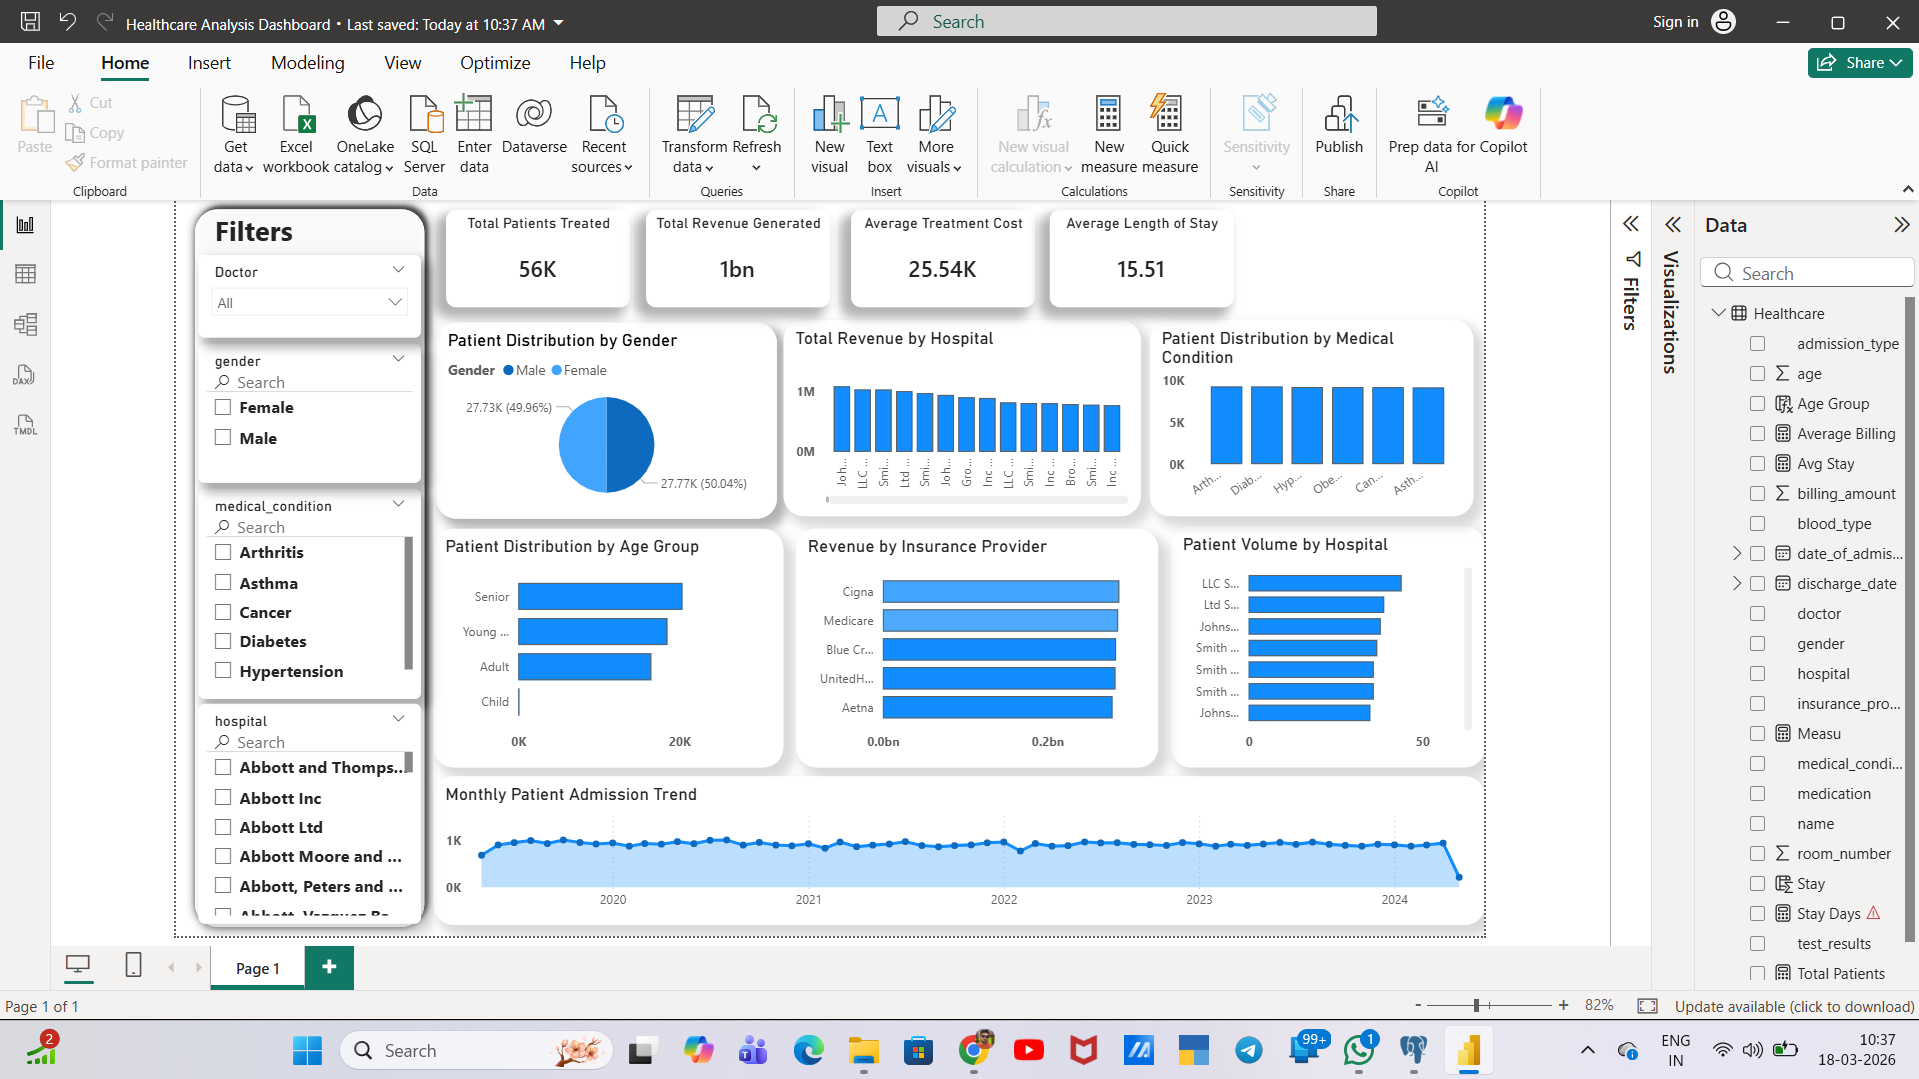

The dashboard page shown, as its layout file describes it:
{"tool":"powerbi","page":{"name":"Page 1","canvas":[1280,720],"ordinal":0},"visuals":[{"type":"cardVisual","title":"Total Patients ","fields":{"Data":["Healthcare.Total Patients"]},"box":[264.1,9.8,179.8,95.4],"z":0},{"type":"pieChart","title":"Patients count by gender","fields":{"Category":["Healthcare.gender"],"Y":["CountNonNull(Healthcare.name)"]},"box":[254.3,119.8,333.8,192],"z":1000},{"type":"barChart","title":"Count of patient by Age Group","fields":{"Y":["CountNonNull(Healthcare.name)"],"Category":["Healthcare.Age Group"]},"box":[251.9,321.6,342.4,233.6],"z":2000},{"type":"barChart","title":"Count of patient by hospital","fields":{"Category":["Healthcare.hospital"],"Y":["CountNonNull(Healthcare.name)"]},"box":[973.4,319.2,306.9,236],"z":3000},{"type":"columnChart","fields":{"Category":["Healthcare.hospital"],"Y":["Sum(Healthcare.billing_amount)"]},"box":[594.3,117.4,349.7,192],"z":4000},{"type":"columnChart","title":"Count of patient by medical_condition","fields":{"Category":["Healthcare.medical_condition"],"Y":["CountNonNull(Healthcare.name)"]},"box":[952.6,117.4,316.7,192],"z":5000},{"type":"barChart","fields":{"Category":["Healthcare.insurance_provider"],"Y":["Sum(Healthcare.billing_amount)"]},"box":[606.5,321.6,354.6,233.6],"z":6000},{"type":"stackedAreaChart","title":"Count of patients by Year and Month","fields":{"Category":["Healthcare.date_of_admission.Variation.Date Hierarchy.Year","Healthcare.date_of_admission.Variation.Date Hierarchy.Month"],"Y":["CountNonNull(Healthcare.name)"]},"box":[251.9,563.7,1028.4,145.5],"z":7000},{"type":"cardVisual","fields":{"Data":["Healthcare.Total Revenue"]},"box":[459.8,9.8,179.8,95.4],"z":8000},{"type":"cardVisual","fields":{"Data":["Healthcare.Average Billing"]},"box":[660.3,9.8,179.8,95.4],"z":9000},{"type":"cardVisual","fields":{"Data":["Healthcare.Avg Stay"]},"box":[854.8,9.8,179.8,95.4],"z":10000},{"type":"shape","box":[9.8,0,242.1,720.2],"z":11000},{"type":"slicer","fields":{"Values":["Healthcare.medical_condition"]},"box":[22,282.5,217.7,205.4],"z":13000},{"type":"slicer","fields":{"Values":["Healthcare.hospital"]},"box":[22,492.8,217.7,215.2],"z":14000},{"type":"slicer","fields":{"Values":["Healthcare.gender"]},"box":[22,140.6,217.7,135.7],"z":15000},{"type":"slicer","fields":{"Values":["Healthcare.doctor"]},"box":[22,53.8,217.7,80.7],"z":16000},{"type":"textbox","box":[33,6.1,97.8,47.7],"z":17000}]}

Visuals, with their boxes on the page's 1280x720 design canvas (x1, y1, x2, y2). These are canvas units, not pixel positions in the 1919x1079 screenshot, which may show the page scaled, cropped or inside an application window:
"Total Patients " cardVisual: l=264, t=10, r=444, b=105
"Patients count by gender" pieChart: l=254, t=120, r=588, b=312
"Count of patient by Age Group" barChart: l=252, t=322, r=594, b=555
"Count of patient by hospital" barChart: l=973, t=319, r=1280, b=555
columnChart - Healthcare.hospital x Sum(Healthcare.billing_amount): l=594, t=117, r=944, b=309
"Count of patient by medical_condition" columnChart: l=953, t=117, r=1269, b=309
barChart - Healthcare.insurance_provider x Sum(Healthcare.billing_amount): l=606, t=322, r=961, b=555
"Count of patients by Year and Month" stackedAreaChart: l=252, t=564, r=1280, b=709
cardVisual - Healthcare.Total Revenue: l=460, t=10, r=640, b=105
cardVisual - Healthcare.Average Billing: l=660, t=10, r=840, b=105
cardVisual - Healthcare.Avg Stay: l=855, t=10, r=1035, b=105
shape: l=10, t=0, r=252, b=720
slicer - Healthcare.medical_condition: l=22, t=282, r=240, b=488
slicer - Healthcare.hospital: l=22, t=493, r=240, b=708
slicer - Healthcare.gender: l=22, t=141, r=240, b=276
slicer - Healthcare.doctor: l=22, t=54, r=240, b=134
textbox: l=33, t=6, r=131, b=54
